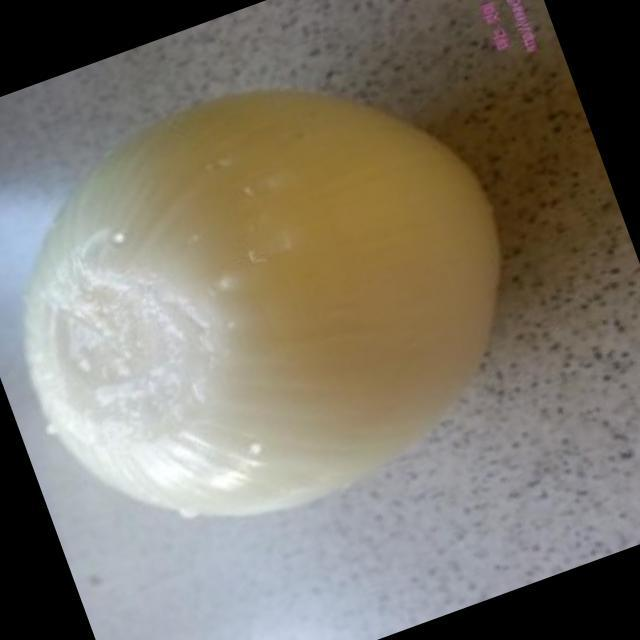Onion: (30, 89, 496, 507)
